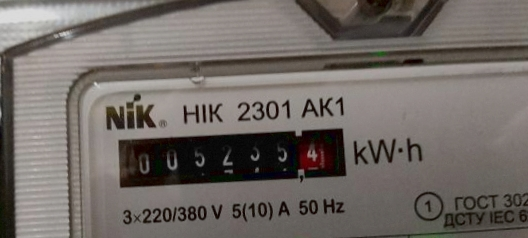0: (135, 149, 153, 176), (164, 145, 179, 171)
2: (218, 140, 234, 166)
3: (246, 136, 262, 162)
4: (303, 136, 320, 163)
5: (273, 135, 290, 163), (191, 142, 207, 169)
screen: (106, 114, 359, 200)
